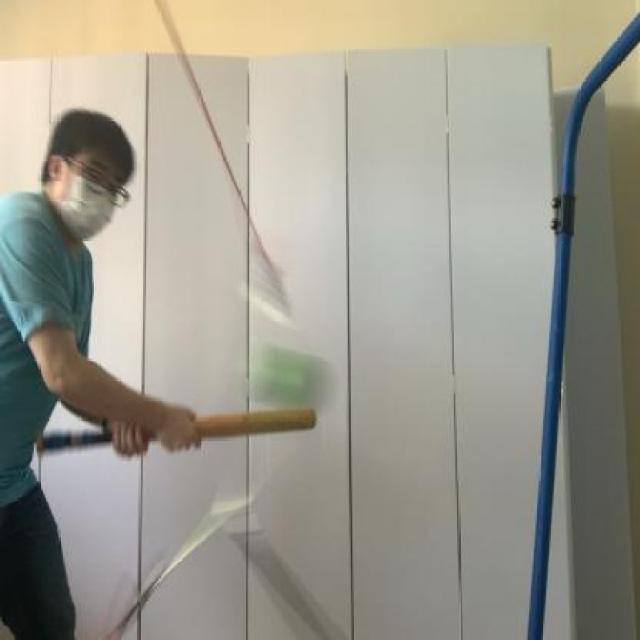baseball: (239, 330, 344, 425)
